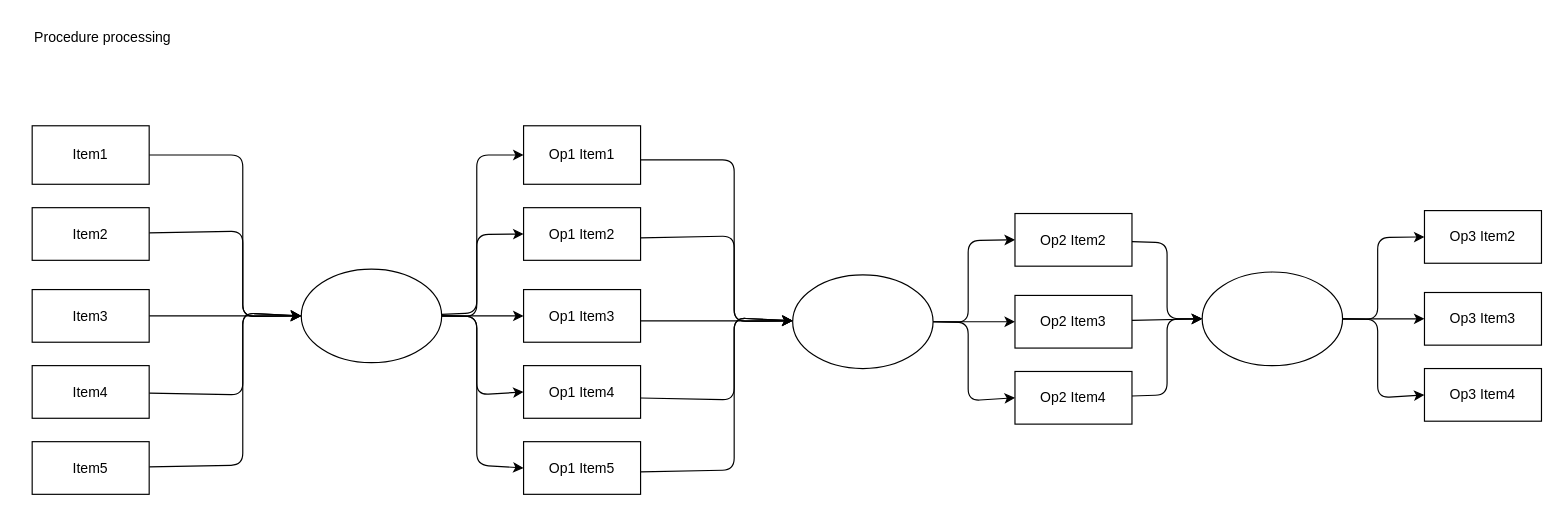
The diagram is 1562 pixels wide and 515 high, and some of its shapes have lost their labels. The shapes that lost their labels are listed below. From the top down, each one's box as (x1, y1, x2, y2) in pixels, then its label:
(300, 268, 442, 363): Operation1
(792, 274, 933, 369): Operation2
(1201, 271, 1343, 366): Operation3
